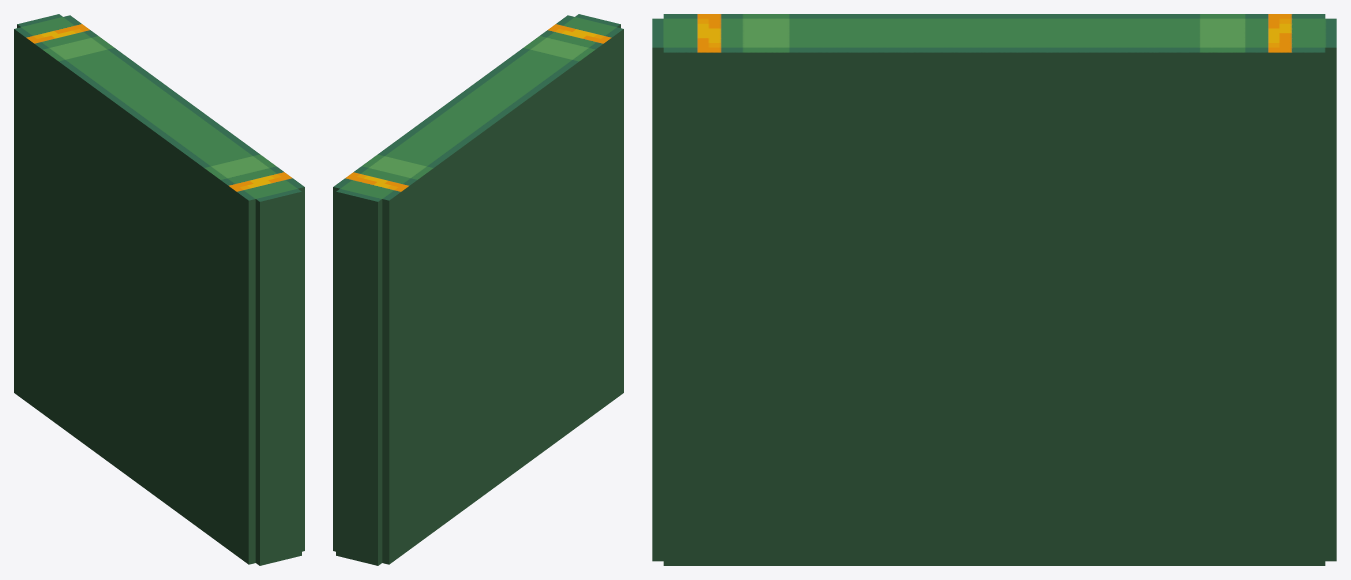
File: book5.glb
3 views of the same model, side by side, from view 1: azimuth 30°, elevation 25°; view 2: azimuth 150°, elevation 25°; view 3: azimuth 270°, elevation 25° (orthographic). The views are drawn at different scales.
Parts seen in each view (by area): view 1: book5-col; view 2: book5-col; view 3: book5-col.
Boxes of the visible parts, box(x1,y1,x2,y2) form: book5-col: box(14, 14, 304, 565); book5-col: box(333, 14, 623, 565); book5-col: box(652, 14, 1336, 565).
Bounding box in the file's own units: 0.125 × 0.7757 × 0.9375.
2 materials, 1 textured.
